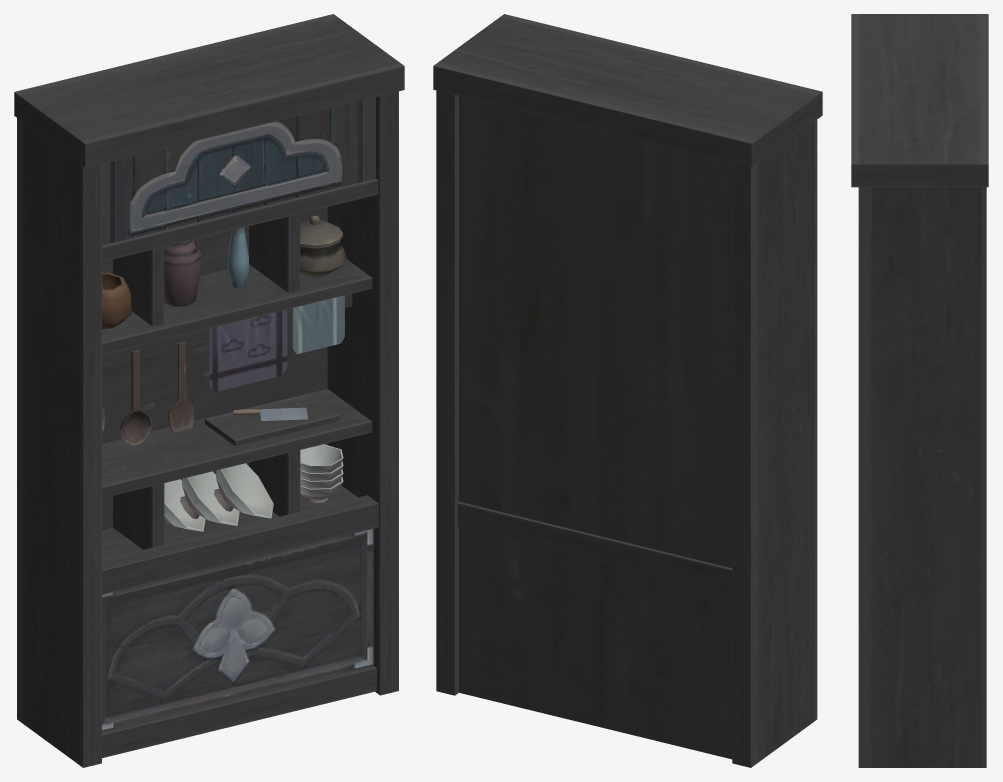
File: Homeworld_Interior_Dq_Cabinet_Cabinet_04_Vo.fbx
3 views of the same model, side by side, from view 1: azimuth 30°, elevation 25°; view 2: azimuth 150°, elevation 25°; view 3: azimuth 270°, elevation 25° (orthographic). The views are drawn at different scales.
Parts seen in each view (by area): view 1: Indoor_Dq_Build_Comp_Cupboard_02_Vo; view 2: Indoor_Dq_Build_Comp_Cupboard_02_Vo; view 3: Indoor_Dq_Build_Comp_Cupboard_02_Vo.
Boxes of the visible parts, left/top/right/bottom form: Indoor_Dq_Build_Comp_Cupboard_02_Vo: left=14, top=14, right=404, bottom=767; Indoor_Dq_Build_Comp_Cupboard_02_Vo: left=433, top=14, right=822, bottom=767; Indoor_Dq_Build_Comp_Cupboard_02_Vo: left=851, top=14, right=988, bottom=767.
Size of the model in its own units: 1.66 by 3.11 by 0.6412.
